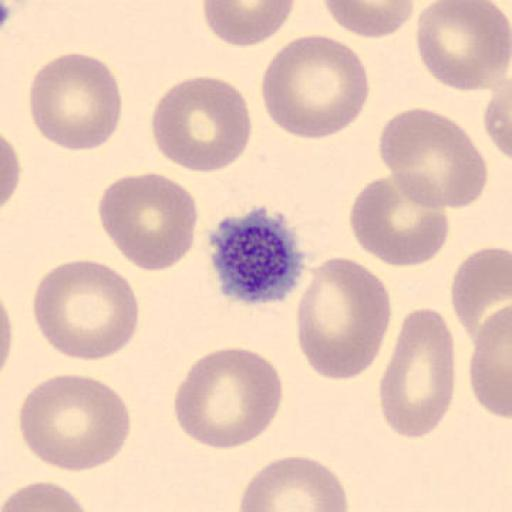Platelet: (206, 206, 309, 306)
RBC: (296, 254, 392, 382), (378, 105, 490, 211), (172, 346, 285, 451), (260, 34, 370, 141), (31, 258, 141, 363), (18, 373, 132, 473), (97, 171, 200, 273), (378, 308, 456, 440), (150, 74, 252, 174), (348, 172, 451, 268), (26, 52, 123, 153), (415, 0, 511, 93), (238, 454, 349, 512), (451, 245, 512, 345), (469, 301, 512, 421), (201, 0, 297, 47), (321, 0, 416, 39), (483, 55, 512, 162), (0, 479, 94, 512), (2, 130, 22, 210), (0, 293, 13, 376)
